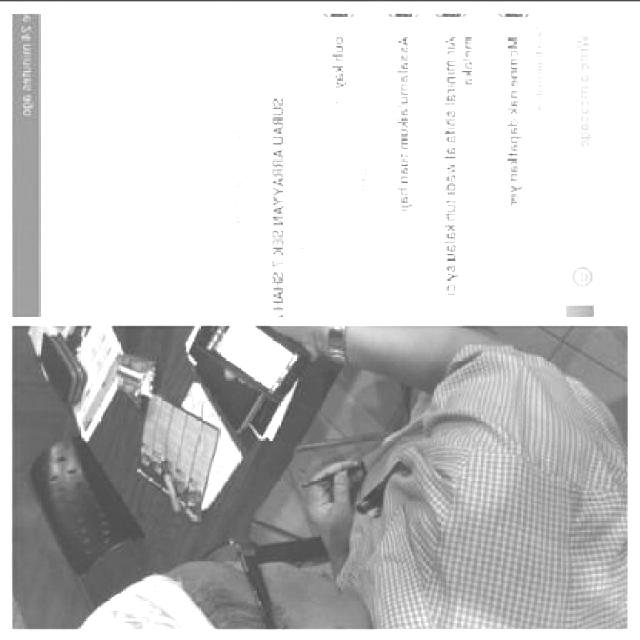fake: (199, 321, 313, 404)
